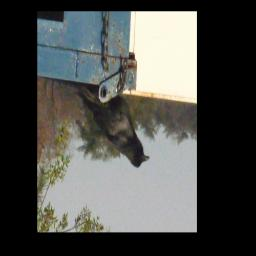Crow: (78, 86, 150, 169)
